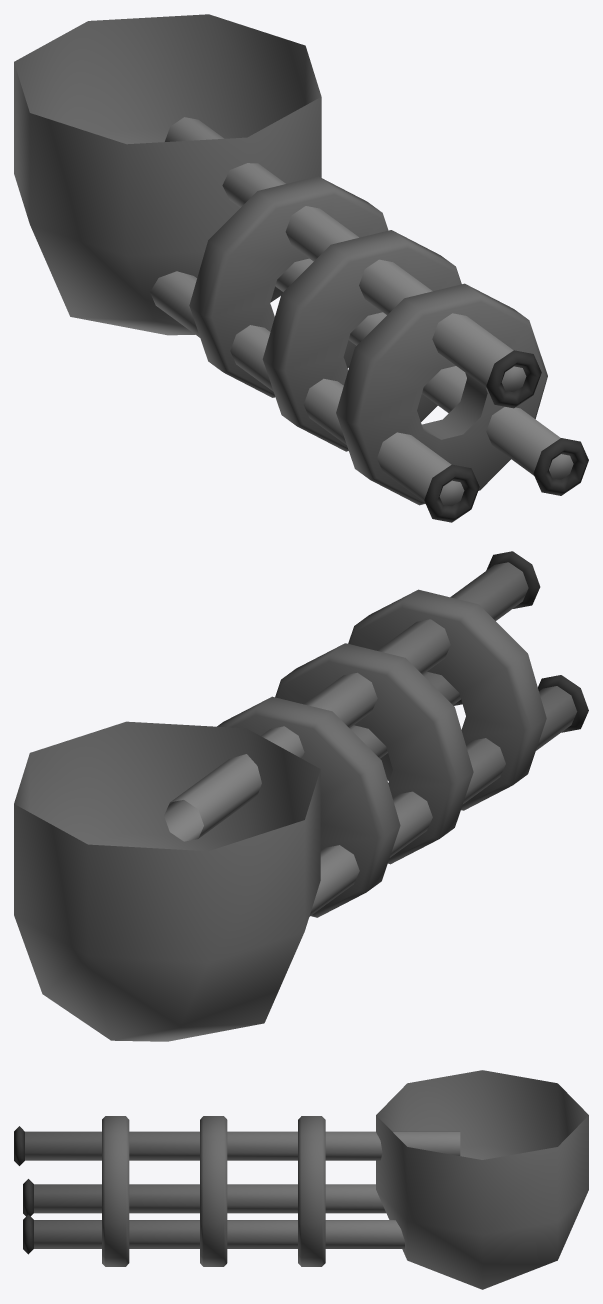
The model's file is Turret_07_H.fbx.
3 views of the same model, one above another, from view 1: azimuth 30°, elevation 25°; view 2: azimuth 150°, elevation 25°; view 3: azimuth 270°, elevation 25° (orthographic). The views are drawn at different scales.
Parts seen in each view (by area): view 1: Object006; view 2: Object006; view 3: Object006.
Boxes of the visible parts, x1=… form: Object006: x1=14, y1=14, x2=588, y2=522; Object006: x1=14, y1=551, x2=588, y2=1041; Object006: x1=14, y1=1070, x2=588, y2=1289.
Bounding box in the file's own units: 14.96 × 13.28 × 40.41.
1 material, 1 textured.
